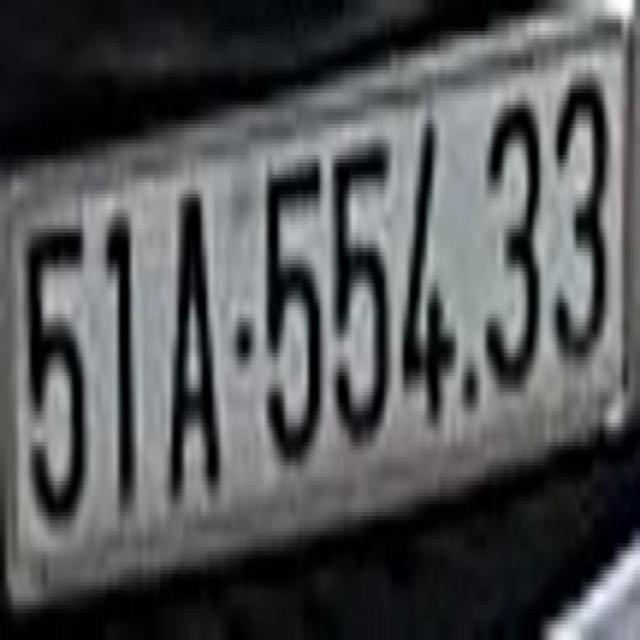1: (101, 188, 144, 526)
3: (551, 48, 611, 390), (483, 66, 543, 407)
4: (401, 86, 456, 438)
5: (260, 136, 324, 473), (24, 204, 88, 537), (332, 116, 392, 454)
A: (164, 165, 224, 510)
